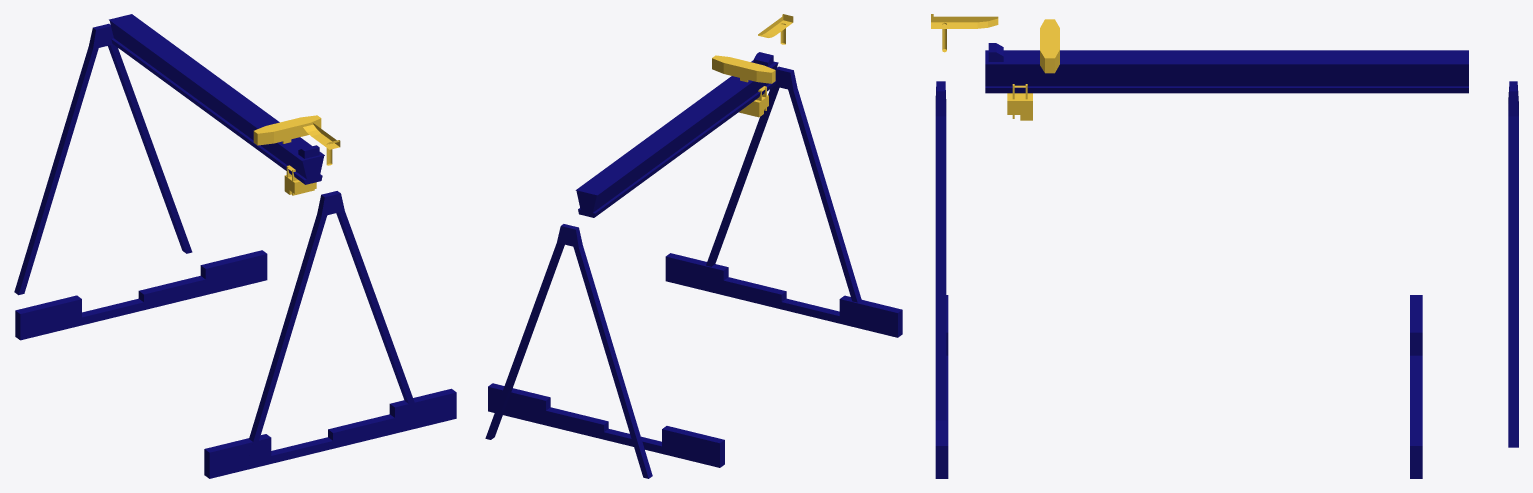
The model's file is turku_meyer.gltf.
3 renders of one model, left to right at view 1: azimuth 30°, elevation 25°; view 2: azimuth 150°, elevation 25°; view 3: azimuth 270°, elevation 25°, orthographic. The views are drawn at different scales.
Parts seen in each view (by area): view 1: Cube.004, Cube, Cube.005, Cube.003, Cube.002, Cube.001; view 2: Cube.004, Cube, Cube.005, Cube.003, Cube.002; view 3: Cube, Cube.003, Cube.005, Cube.004, Cube.002, Cube.001.
Part boxes in pixels (x1,y1,x2,y2): Cube.004: (15,250,456,478); Cube: (109,14,324,184); Cube.005: (14,23,192,295); Cube.003: (247,191,420,462); Cube.002: (253,115,321,195); Cube.001: (303,123,340,149); Cube.004: (488,253,902,467); Cube: (575,52,778,217); Cube.005: (485,224,652,478); Cube.003: (706,66,861,302); Cube.002: (712,55,775,117); Cube: (985,43,1468,93); Cube.003: (935,81,946,420); Cube.005: (1508,81,1518,447); Cube.004: (935,295,1422,478); Cube.002: (1007,19,1059,120); Cube.001: (931,14,998,28).
Size of the model in its own units: 98.94 by 118 by 163.
